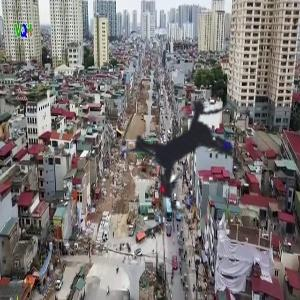drone: (82, 40, 298, 256)
